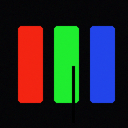4 line_v: (72, 66, 74, 122)
